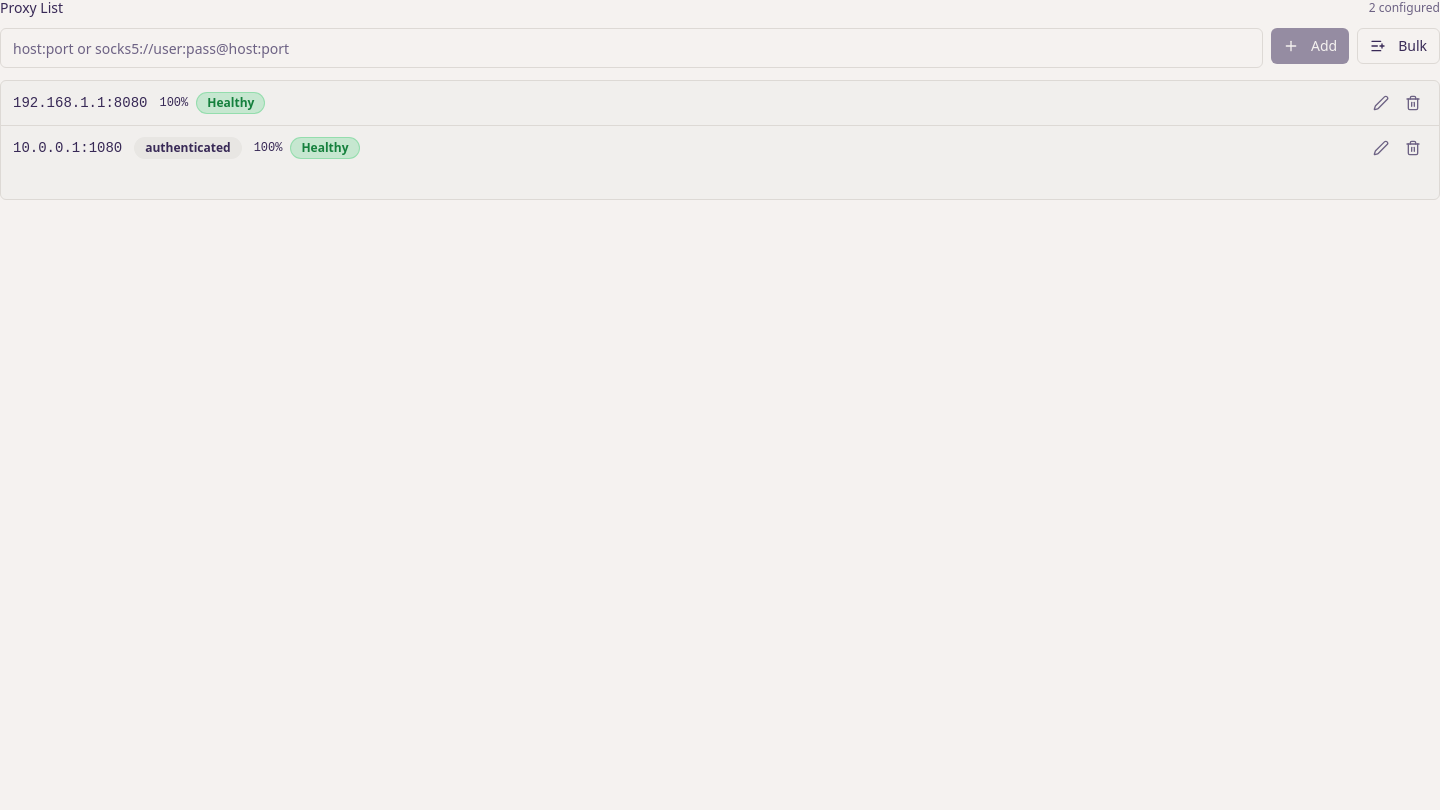
Test: ProxyList › delete proxy › shows confirmation dialog when delete is clicked
Click the button named "delete" in the row of "8080": click(1413, 103) [1399,89,1427,117]
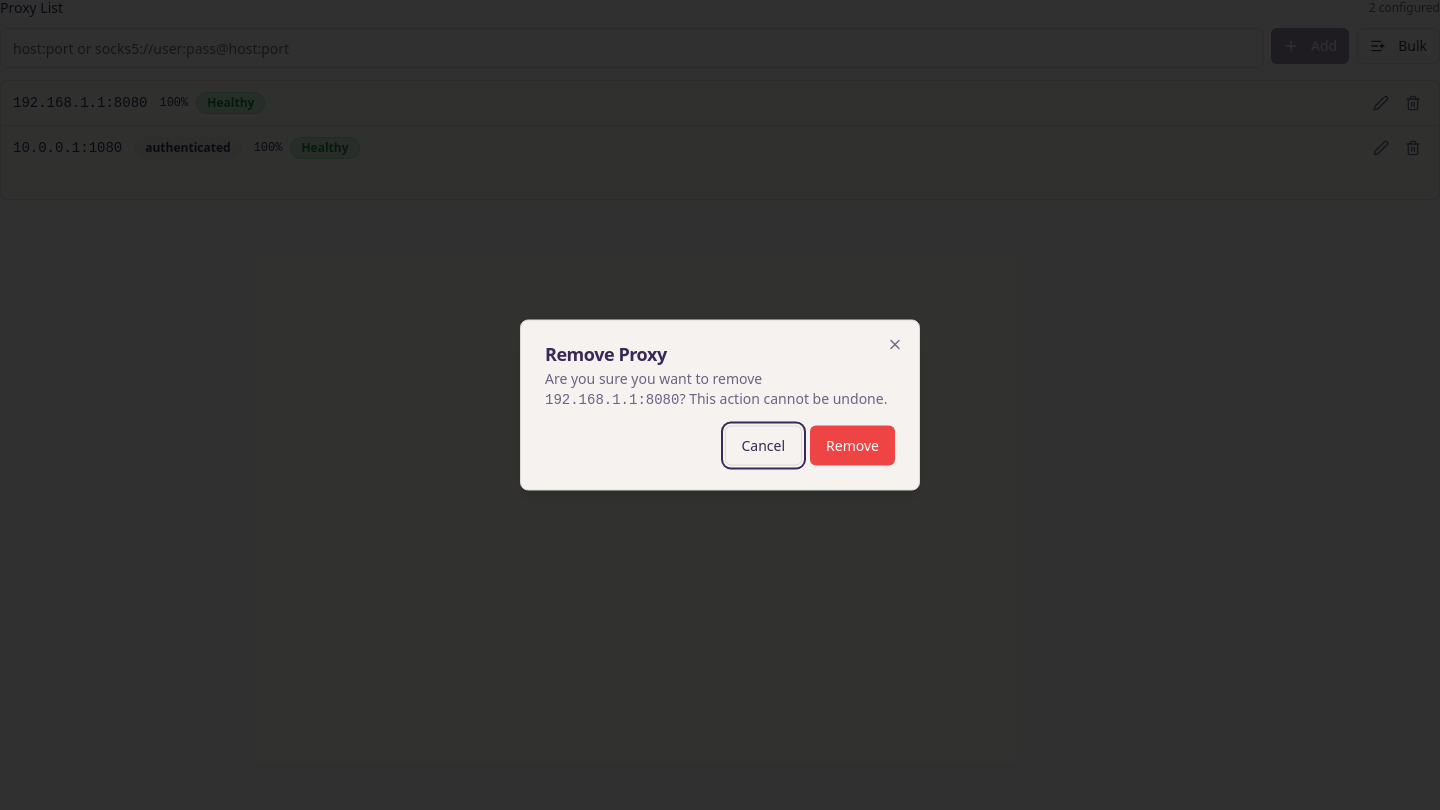
Expected: the heading "Remove Proxy" is shown, [545,342,667,366]
